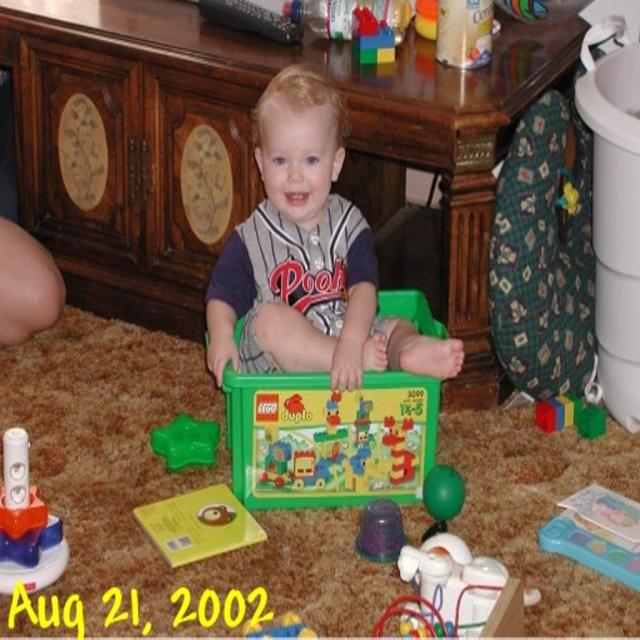Face: (251, 86, 343, 217)
